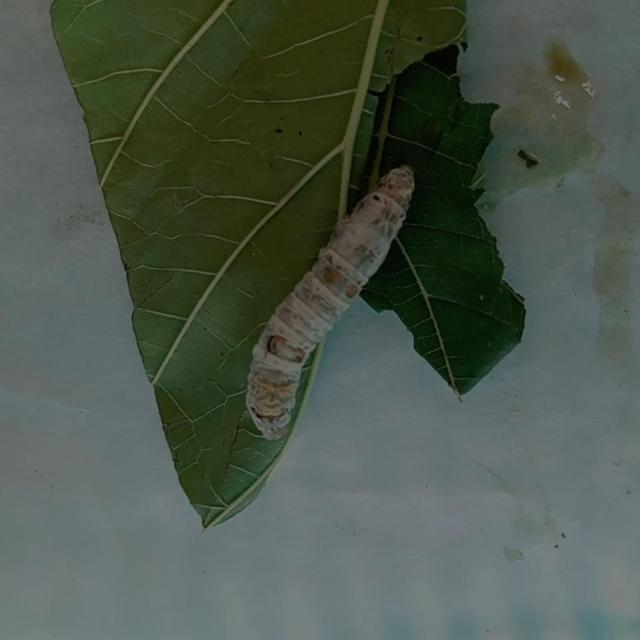Grasserie: (212, 144, 437, 463)
